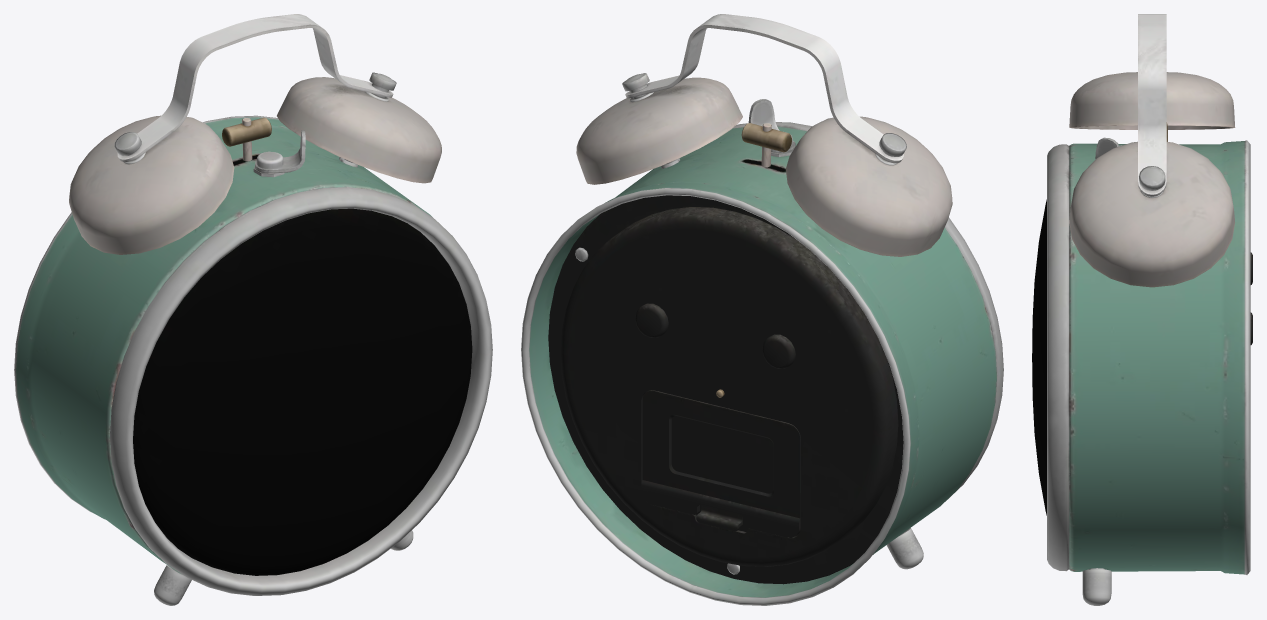
Rendered from alarm.glb.
3 renders of one model, left to right at view 1: azimuth 30°, elevation 25°; view 2: azimuth 150°, elevation 25°; view 3: azimuth 270°, elevation 25°, orthographic. The views are drawn at different scales.
Parts seen in each view (by area): view 1: alarm_0.001, alarm_0; view 2: alarm_0.001; view 3: alarm_0.001, alarm_0.
Part boxes in pixels (<box>): alarm_0.001: <box>14,14,492,605</box>; alarm_0: <box>133,208,472,575</box>; alarm_0.001: <box>521,14,1003,605</box>; alarm_0.001: <box>1047,14,1252,605</box>; alarm_0: <box>1032,199,1046,515</box>.
Size of the model in its own units: 0.1317 by 0.1742 by 0.0667.
Materials: 2 (2 with a texture image).
